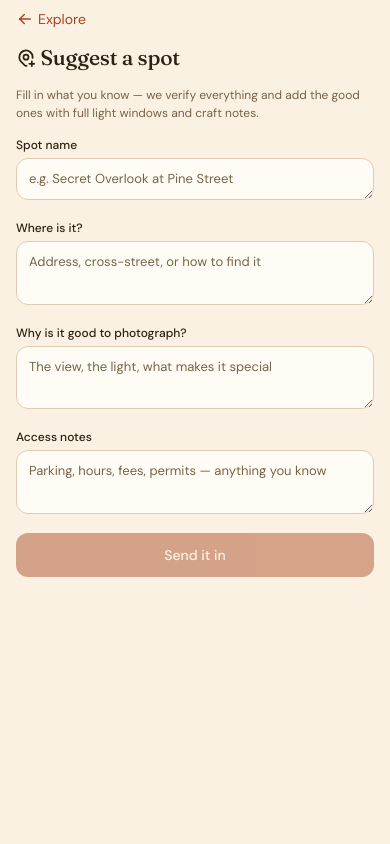
Scenario: SuggestScreen › submits the form and lands on a thank-you state
Check: the button "Send it in" is disabled, box [16,533,374,577]
Type "Secret Overlook" into the text box labelled "Spot name".
click(195, 179); type("Secret Overlook")  # box [16,158,374,200]
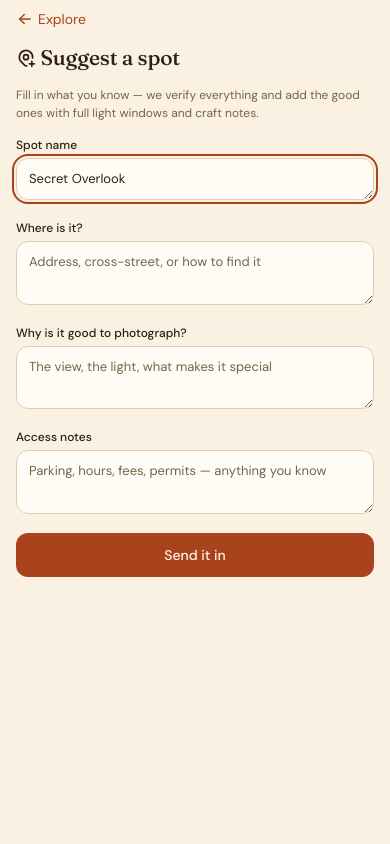
Type "End of Pine St" into the text box labelled "Where is it?".
click(195, 273); type("End of Pine St")  # box [16,241,374,305]
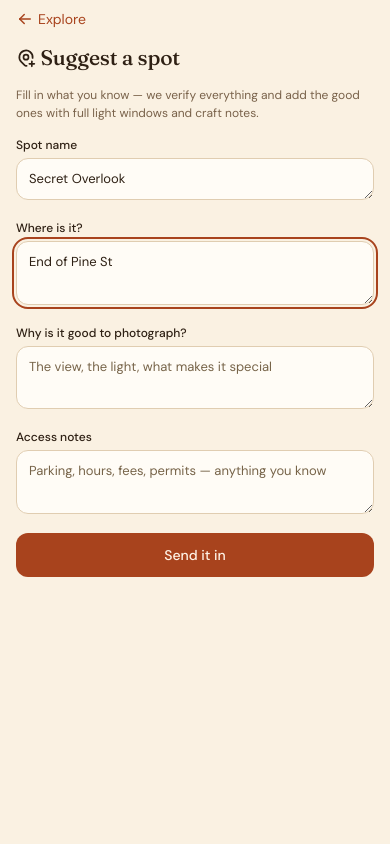
Type "Dusk skyline" into the text box labelled "Why is it good to photograph?".
click(195, 378); type("Dusk skyline")  # box [16,346,374,410]
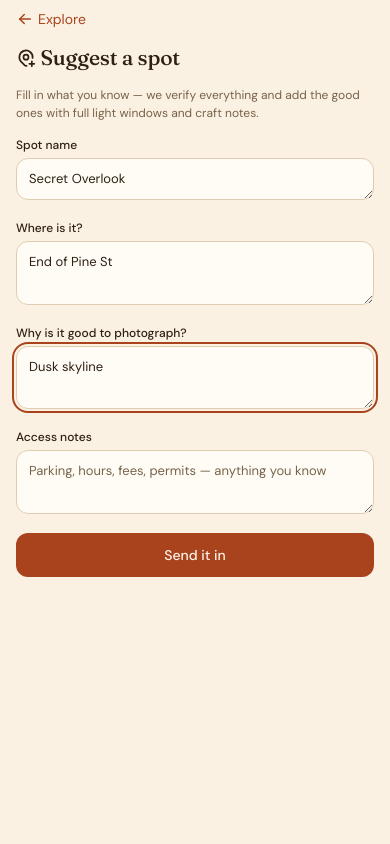
Click the button "Send it in".
click(195, 555)  # box [16,533,374,577]
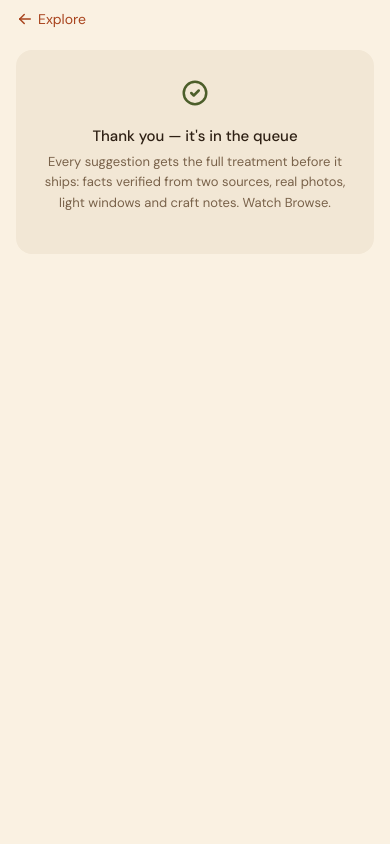
Check: the text "Thank you — it's in the queue" is shown, box [92,126,298,146]
